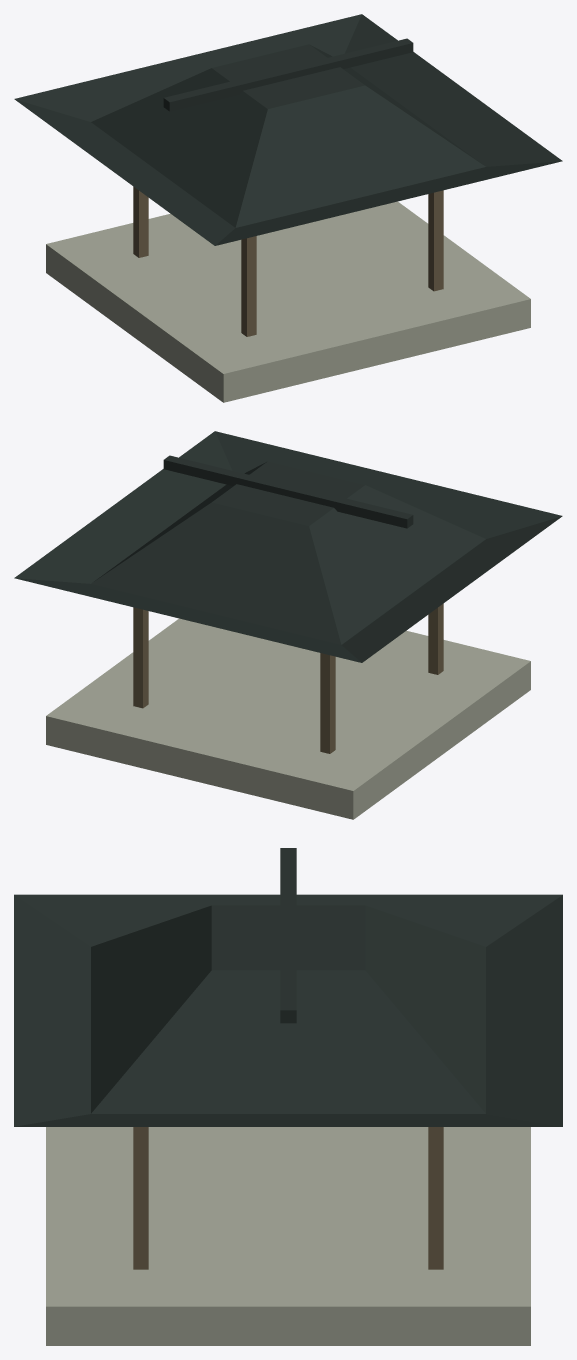
File: pavilion.glb
3 views of the same model, one above another, from view 1: azimuth 30°, elevation 25°; view 2: azimuth 150°, elevation 25°; view 3: azimuth 270°, elevation 25° (orthographic). The views are drawn at different scales.
Visible parts, largest first — view 1: pavilion; view 2: pavilion; view 3: pavilion.
Boxes of the visible parts, x1,y1,x2,y2 form: pavilion: [14, 14, 562, 402]; pavilion: [14, 431, 562, 819]; pavilion: [14, 848, 562, 1345].
Bounding box in the file's own units: 4.3 × 2.72 × 4.3.
